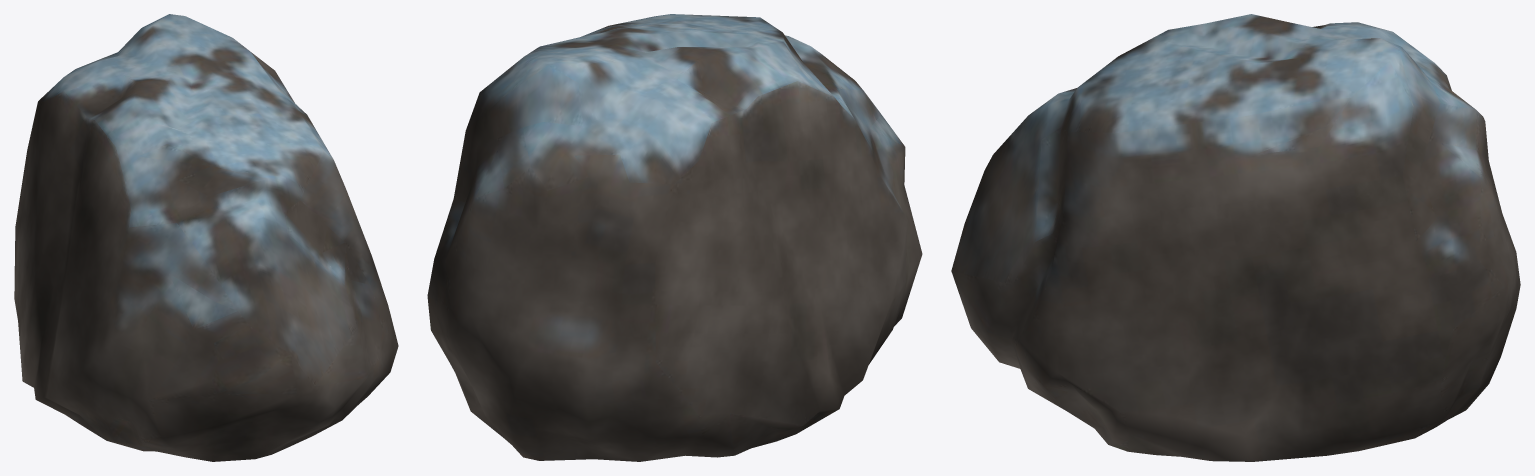
Rendered from SM_Boulder_1.glb.
3 views of the same model, side by side, from view 1: azimuth 30°, elevation 25°; view 2: azimuth 150°, elevation 25°; view 3: azimuth 270°, elevation 25° (orthographic). The views are drawn at different scales.
Parts seen in each view (by area): view 1: SM_Boulder_1; view 2: SM_Boulder_1; view 3: SM_Boulder_1.
Boxes of the visible parts, x1,y1,x2,y2 form: SM_Boulder_1: [14, 14, 398, 461]; SM_Boulder_1: [427, 14, 922, 461]; SM_Boulder_1: [951, 14, 1520, 461].
Size of the model in its own units: 1.49 by 1.52 by 2.16.
Materials: 1 (1 with a texture image).
